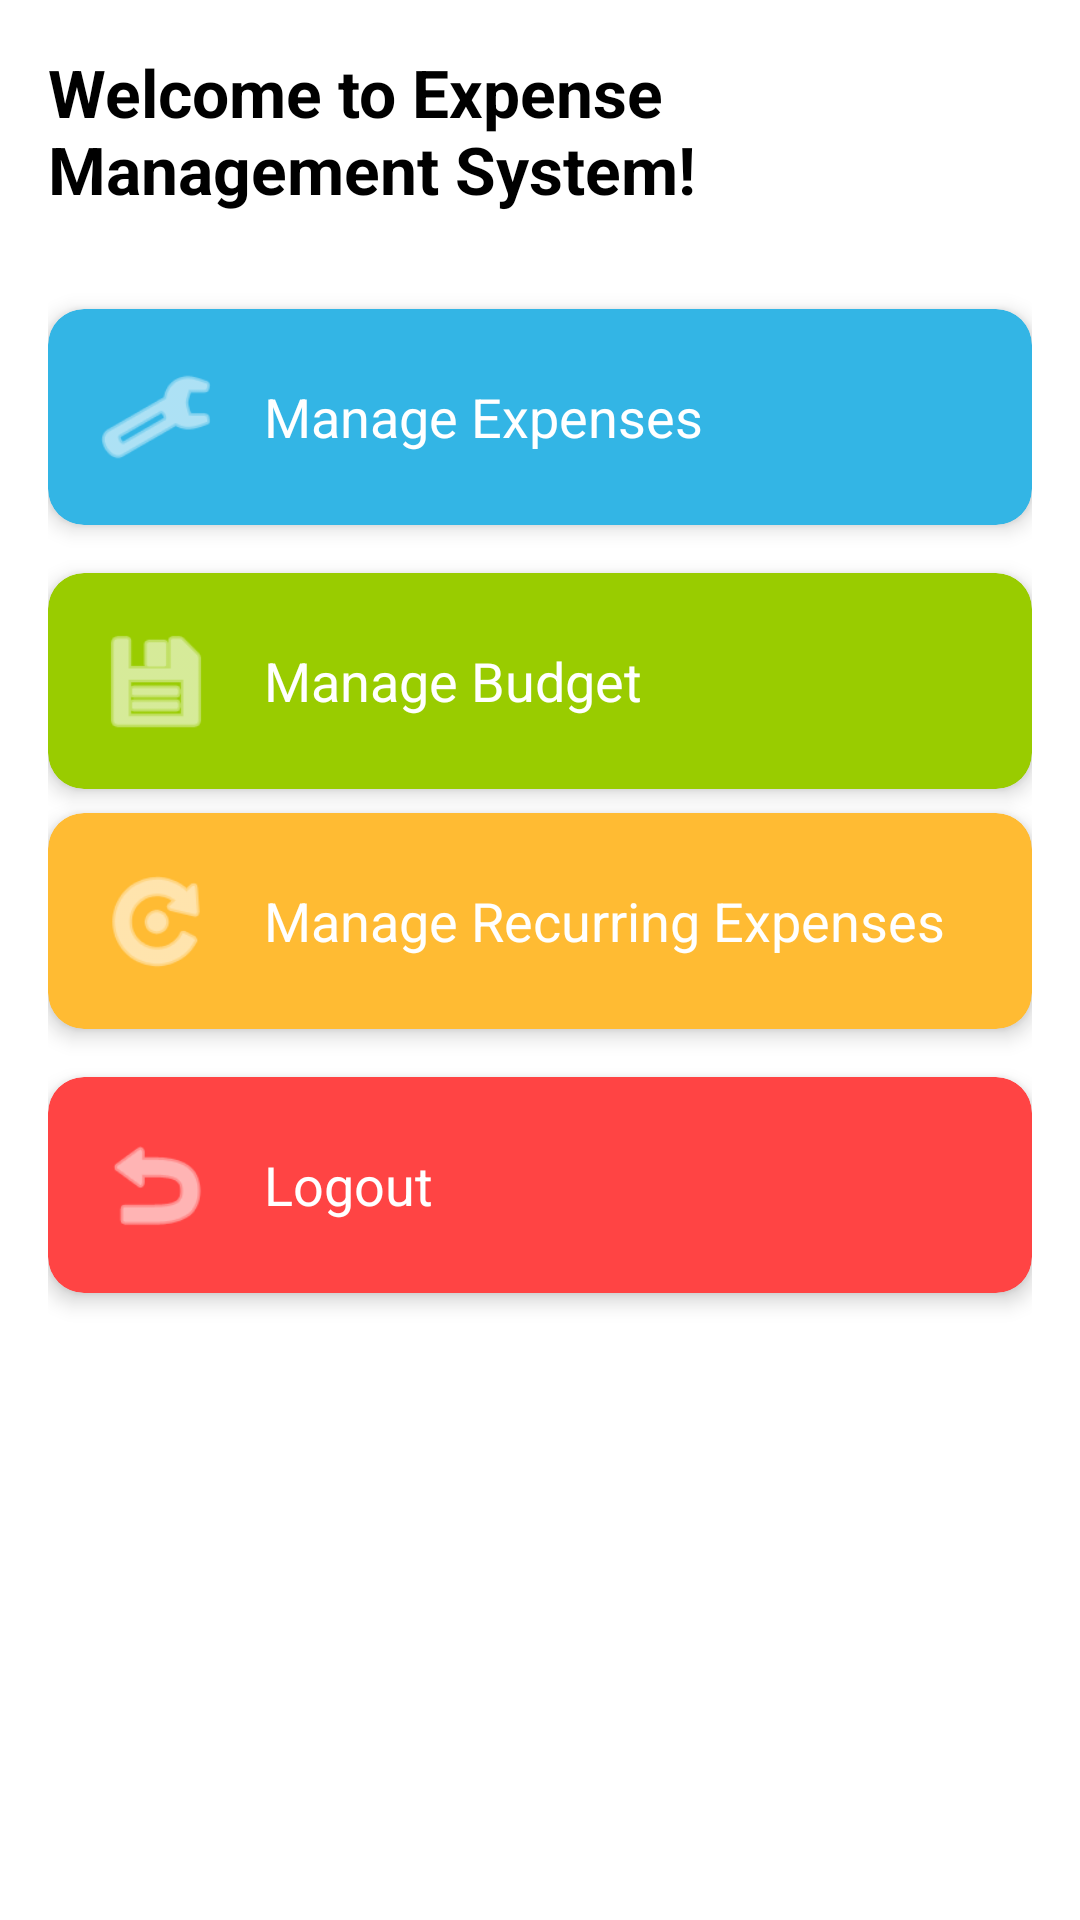

Icon click points for this 1080×1920 phone screenshot, format (x,y):
revert: (157,1186)
rotate: (156,922)
save: (156,682)
